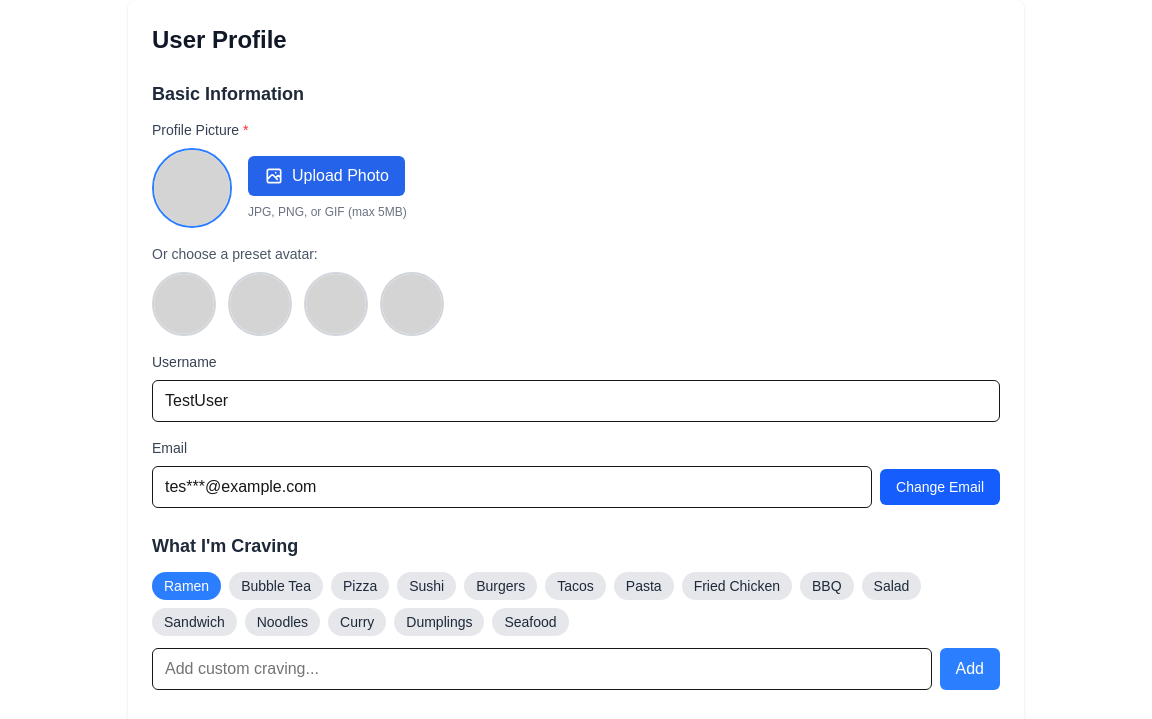
it: UserProfileForm › Email Verification Flow › opens email change interface when clicking change email
Click the button "Change Email". click: (940, 487)
box: [880, 469, 1000, 505]
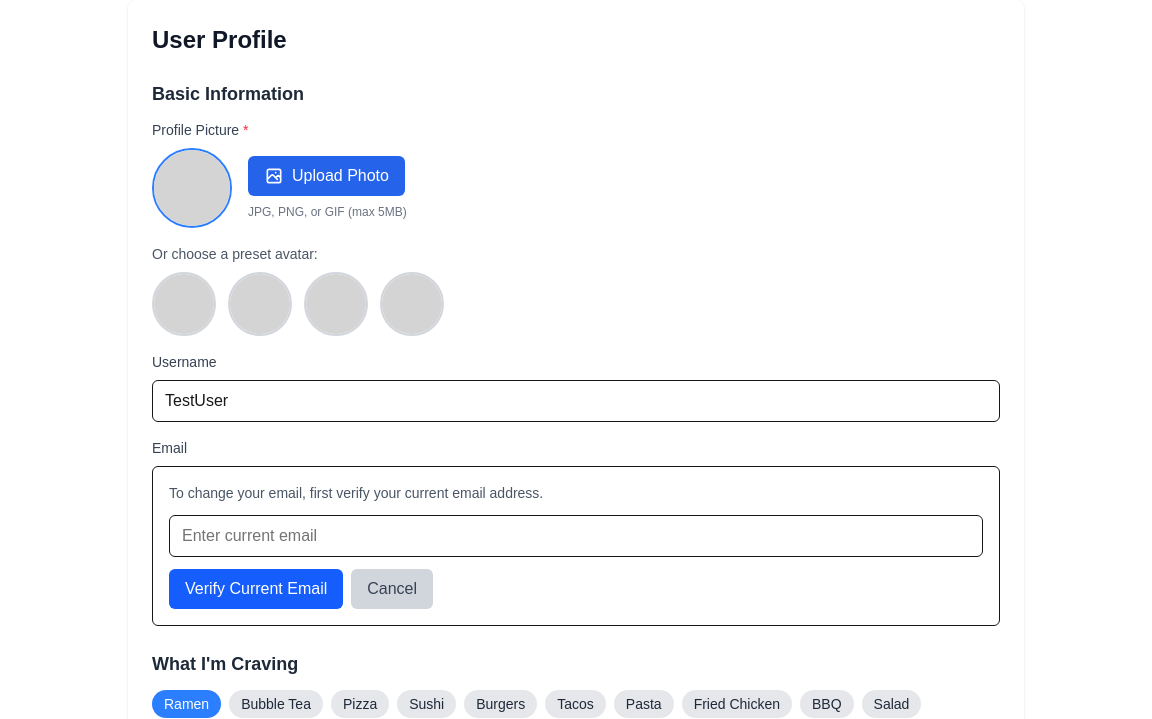
Result: the field with placeholder "Enter current email" is shown at [169, 515, 983, 557]
Result: the button "Verify Current Email" is shown at [169, 569, 343, 609]
